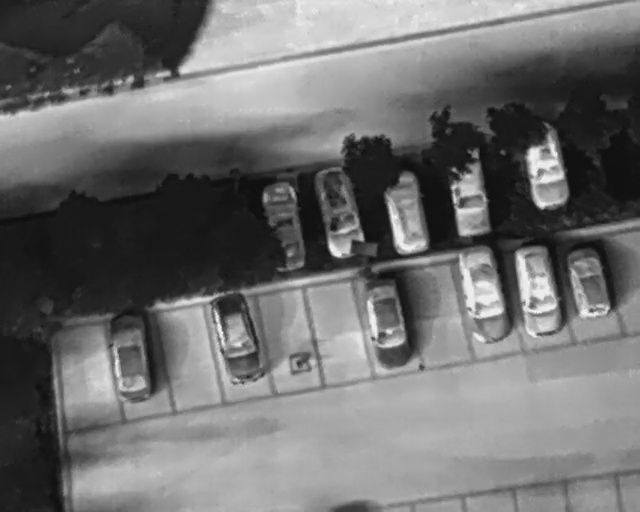Car: (205, 289, 270, 390), (453, 242, 512, 349), (357, 273, 418, 370), (309, 163, 368, 263), (513, 119, 574, 215), (511, 242, 568, 339), (257, 178, 311, 275), (105, 308, 158, 404), (378, 167, 432, 259), (561, 243, 616, 324), (444, 151, 493, 241)
